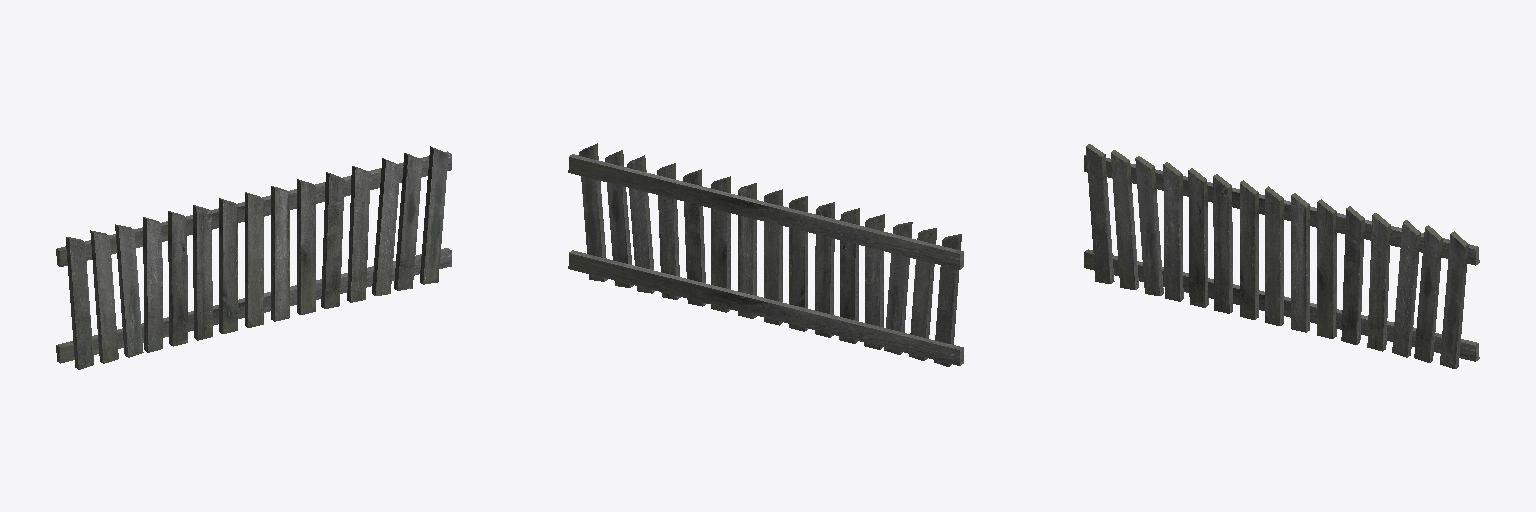
3 renders of one model, left to right at view 1: azimuth 30°, elevation 25°; view 2: azimuth 150°, elevation 25°; view 3: azimuth 330°, elevation 25°, orthographic.
Parts seen in each view (by area): view 1: fence1; view 2: fence1; view 3: fence1.
Part boxes in pixels (bbox=[...]): fence1: bbox=[56, 146, 451, 369]; fence1: bbox=[568, 143, 963, 366]; fence1: bbox=[1084, 144, 1479, 368].
Size of the model in its own units: 5.98 by 1.96 by 0.1962.
Materials: 1 (1 with a texture image).